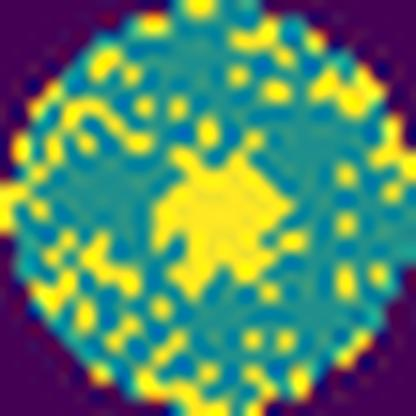Center: (154, 128, 299, 302)
